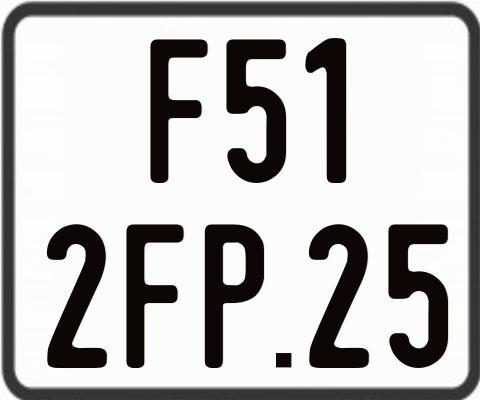1: (304, 37, 350, 187)
2: (308, 221, 371, 371), (47, 223, 107, 373)
5: (224, 39, 286, 189), (388, 222, 451, 367)
F: (149, 38, 211, 187), (124, 221, 183, 366)
P: (202, 224, 266, 370)
